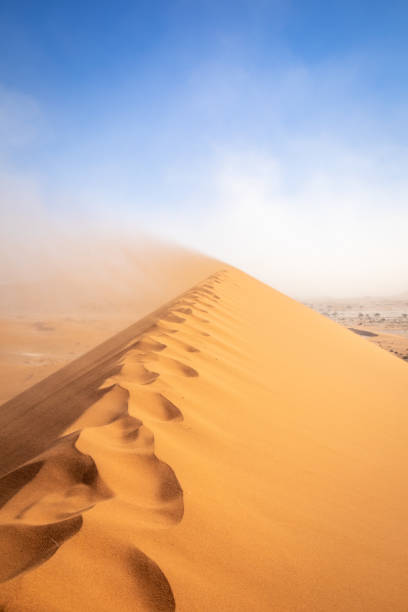human_footprint: (14, 270, 219, 611)
